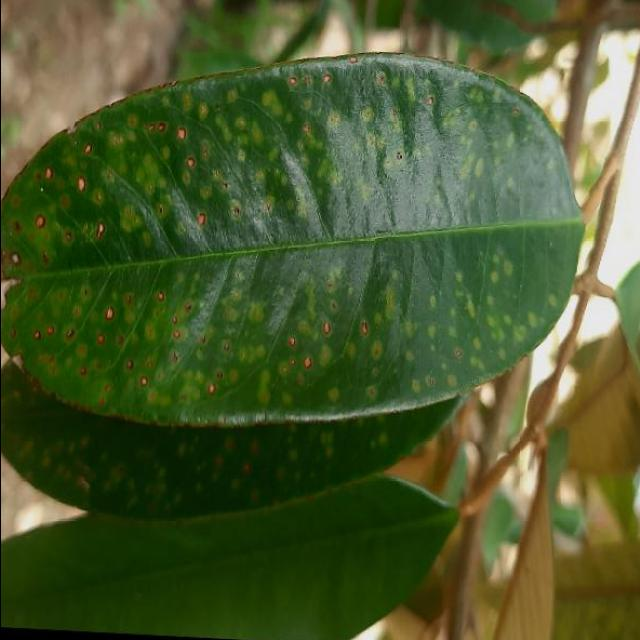Leaf Spot: (0, 25, 602, 551)
